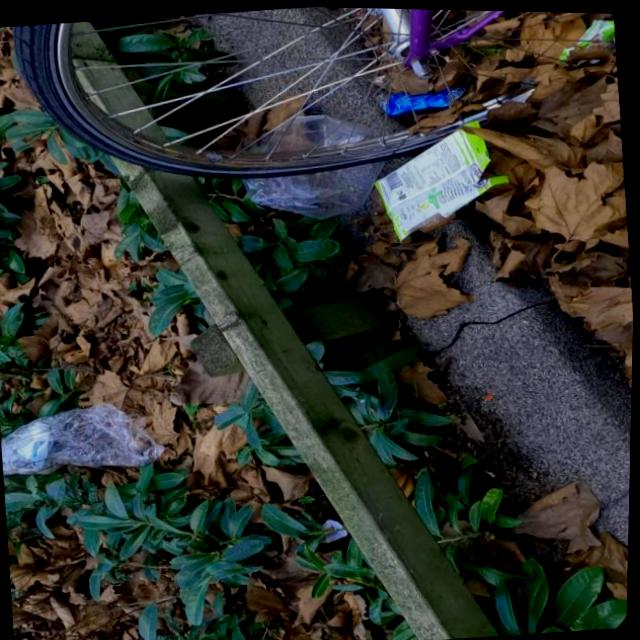Mask: (6, 419, 55, 474)
Paper: (318, 515, 350, 544)
Plastic: (360, 109, 521, 247), (367, 63, 469, 117), (551, 14, 617, 64)
